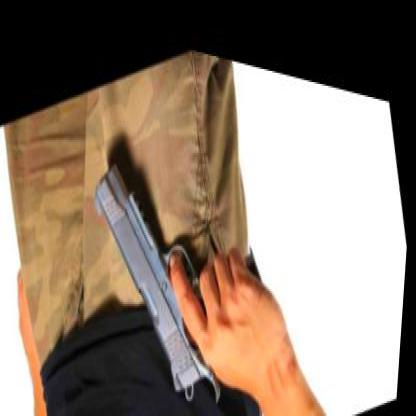pistol: (80, 75, 292, 412)
